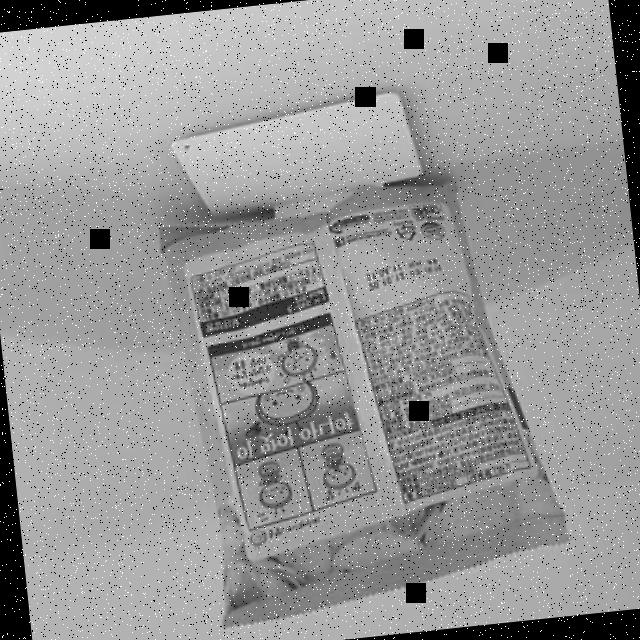snack_bag: (148, 146, 586, 638)
